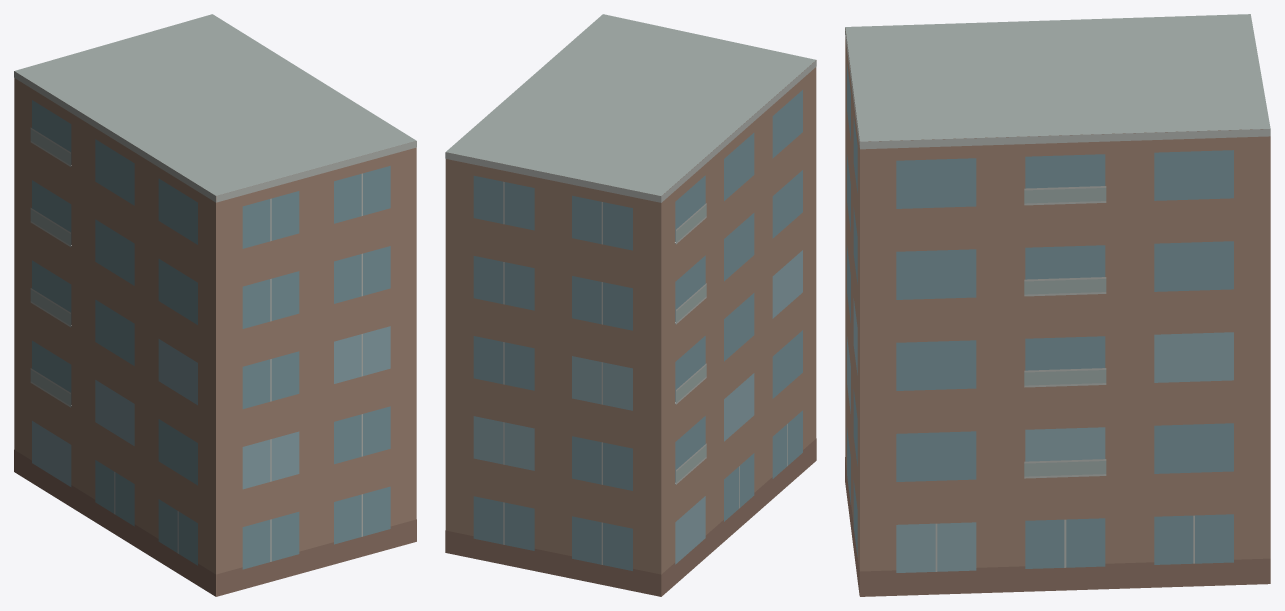
Rendered from survey-upis-32734520.glb.
The picture shows the model from 3 angles, left to right: view 1: azimuth 30°, elevation 25°; view 2: azimuth 150°, elevation 25°; view 3: azimuth 270°, elevation 25°; orthographic projection. The views are drawn at different scales.
Parts seen in each view (by area): view 1: survey-upis-32734520.tmp; view 2: survey-upis-32734520.tmp; view 3: survey-upis-32734520.tmp.
Part boxes in pixels (x1,y1,x2,y2): survey-upis-32734520.tmp: (14,14,416,596); survey-upis-32734520.tmp: (445,14,816,596); survey-upis-32734520.tmp: (845,14,1270,596).
Bounding box in the file's own units: 8.77 × 14.55 × 12.34.
